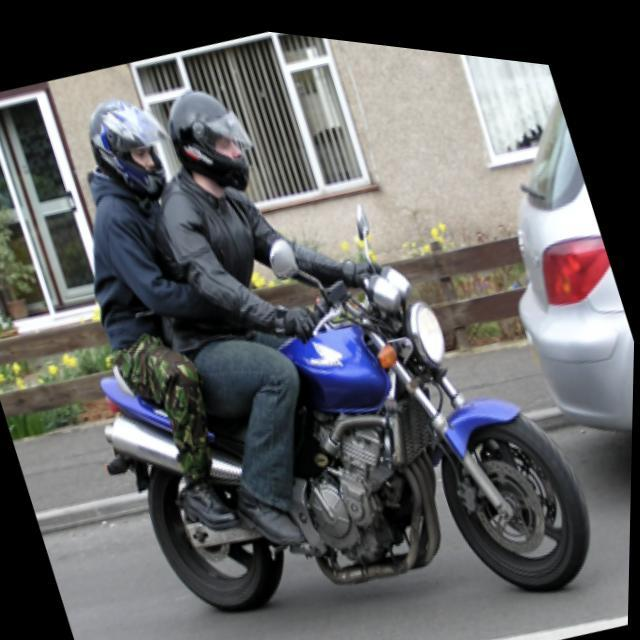Helmet: (162, 79, 258, 200), (83, 98, 170, 206)
